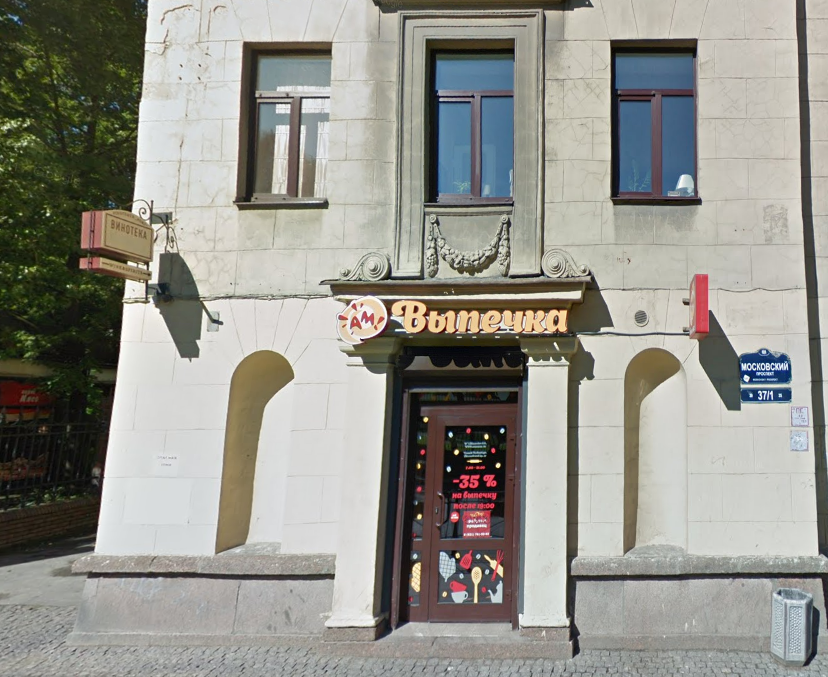cantilever: (71, 182, 185, 314), (669, 263, 722, 343)
door: (388, 383, 530, 626)
signboard: (330, 290, 573, 347)
window: (424, 42, 517, 205), (241, 46, 334, 205), (611, 44, 699, 202)
